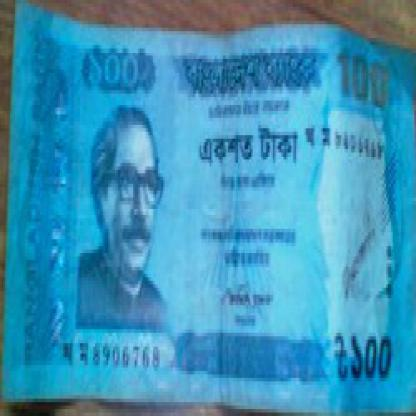one hundred taka: (334, 38, 390, 111), (85, 38, 146, 97), (348, 330, 394, 388)
